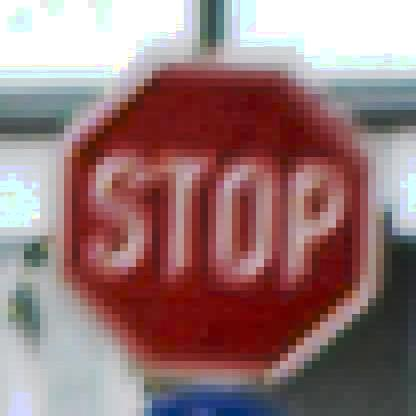Stop Sign: (55, 46, 391, 383)
